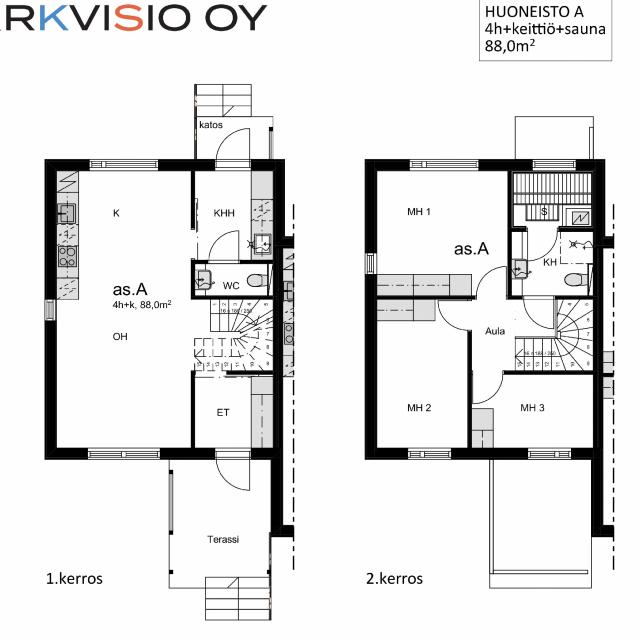door: (215, 126, 249, 170), (216, 448, 250, 492), (527, 228, 558, 263), (523, 295, 553, 329), (476, 266, 505, 300), (209, 231, 238, 263), (439, 302, 472, 330), (475, 371, 502, 402)
